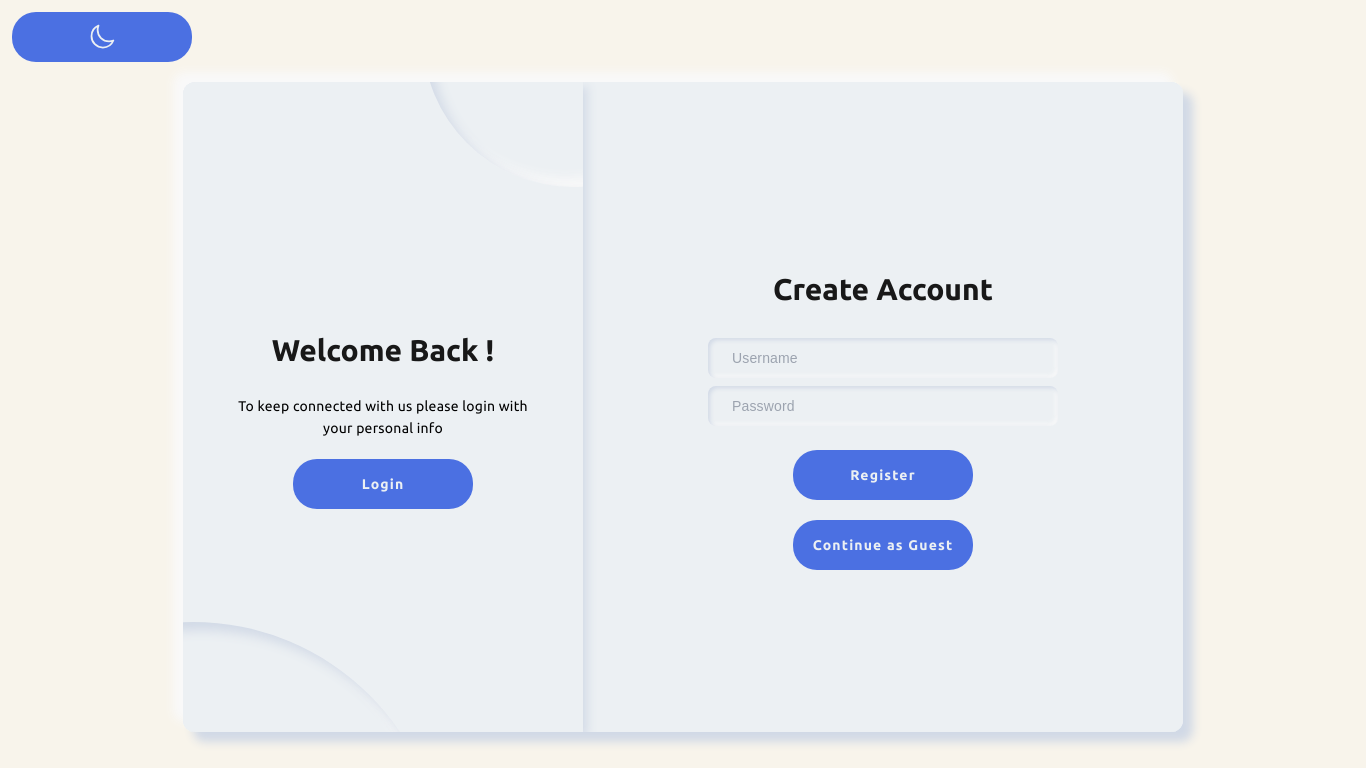
Scenario: Login Page › Login › fails with wrong credentials
Click the button with id "login-change-form-btn" at (383, 484), box [293, 459, 473, 509]
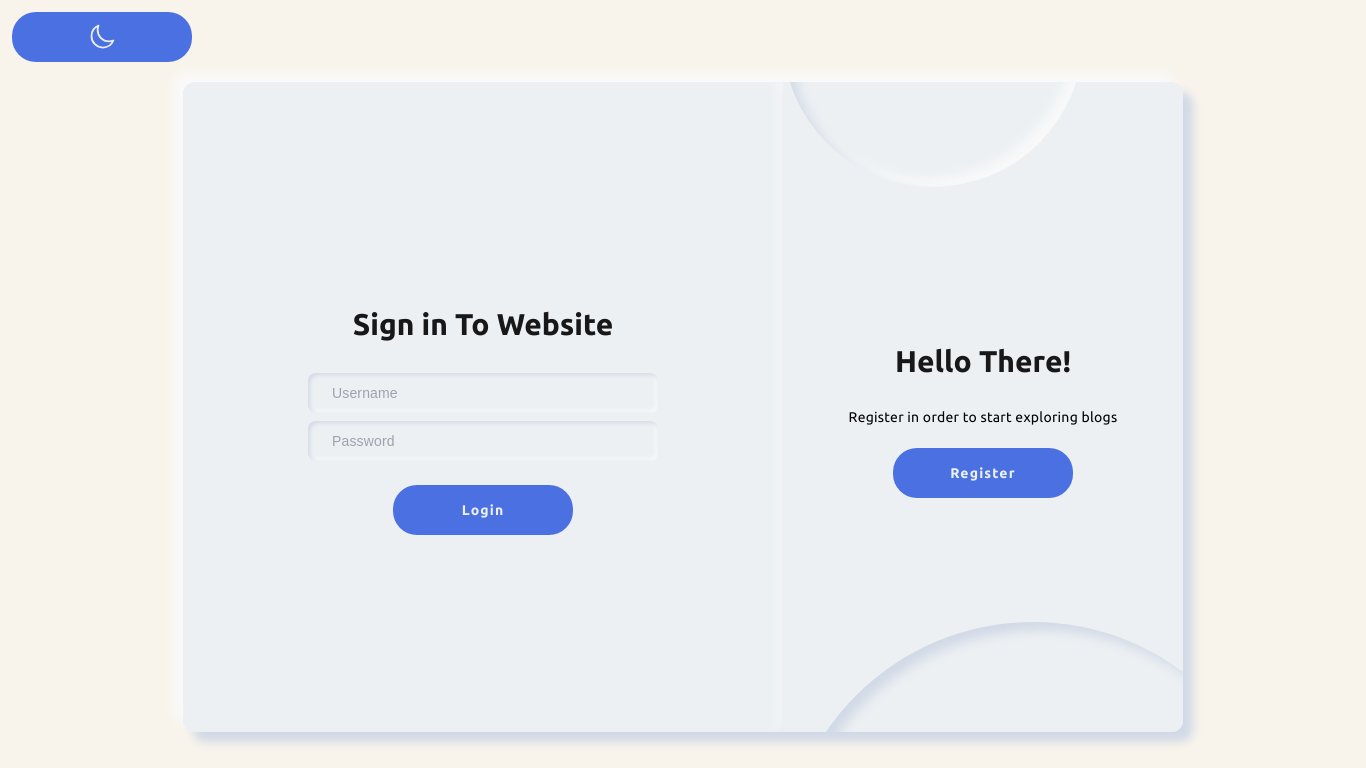
Type "TestUser123" into the field with id "login-username-btn" at (483, 393), box [308, 373, 658, 413]
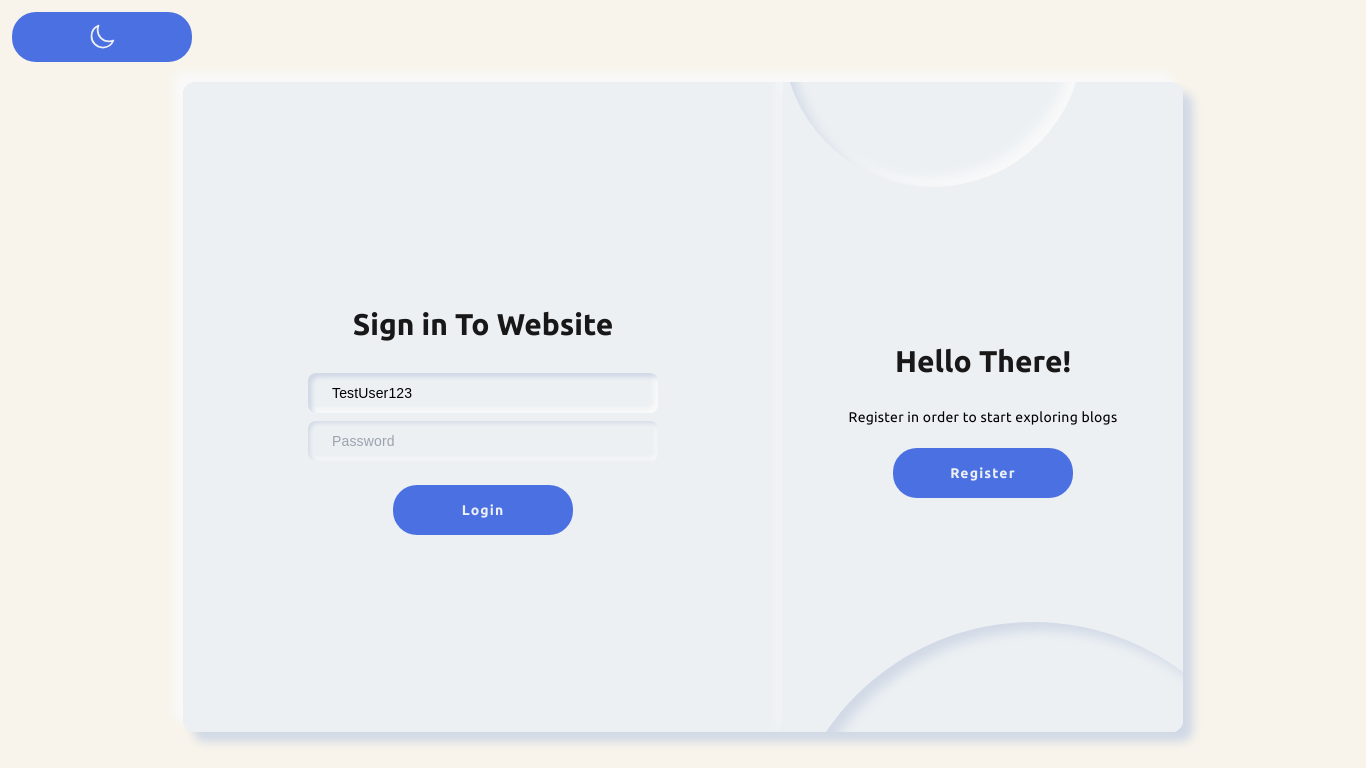
Type "TestPass123" into the password field with id "login-password-btn" at (483, 441), box [308, 421, 658, 461]
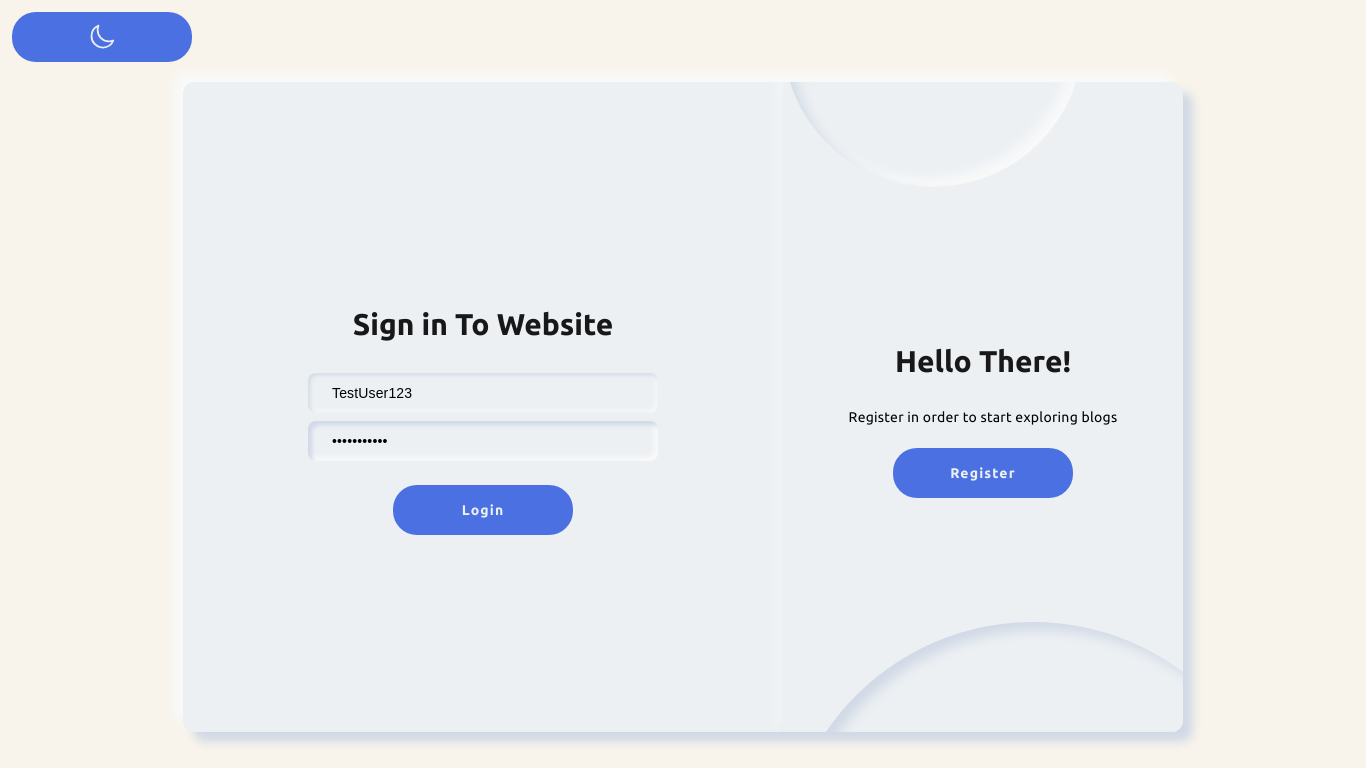
Click the button with id "login-submit-btn" at (483, 510), box [393, 485, 573, 535]
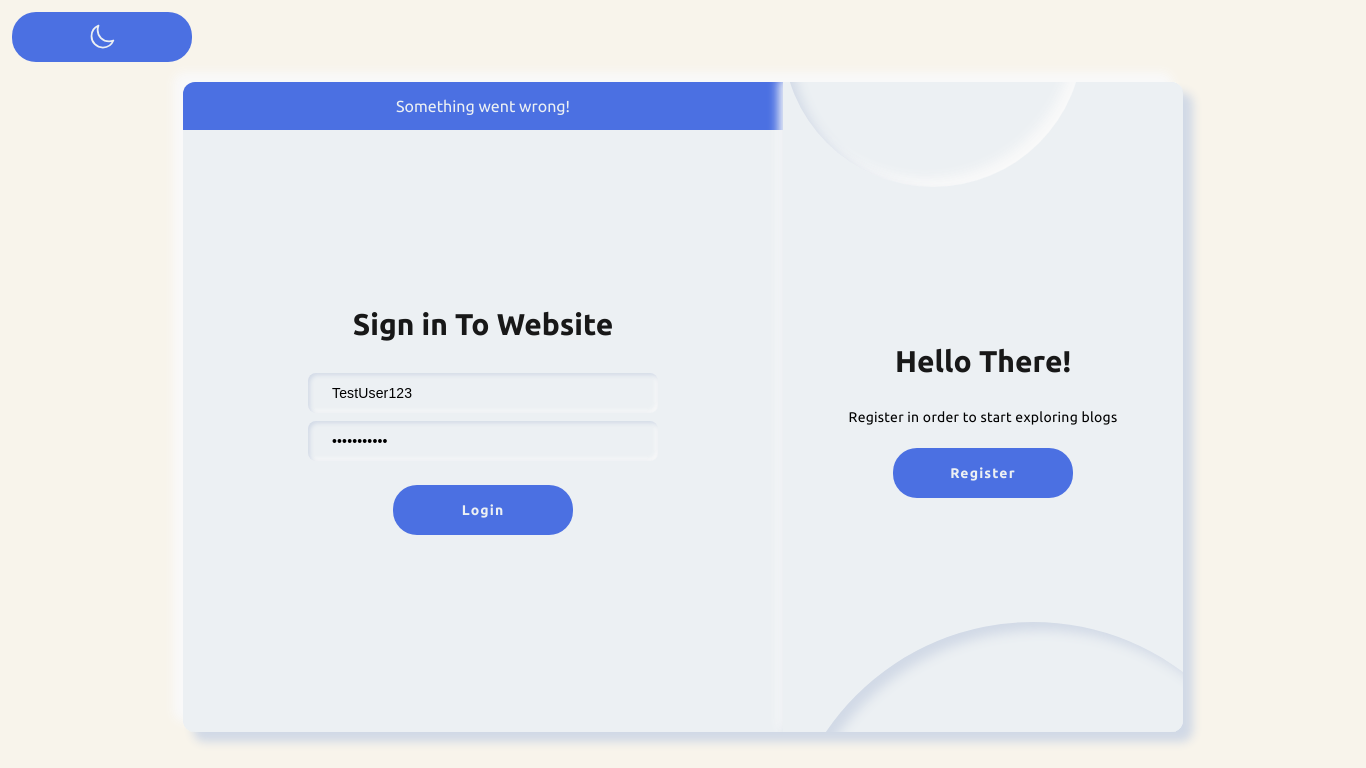
Result: the text "Something went wrong!" is shown at [183, 82, 783, 130]
